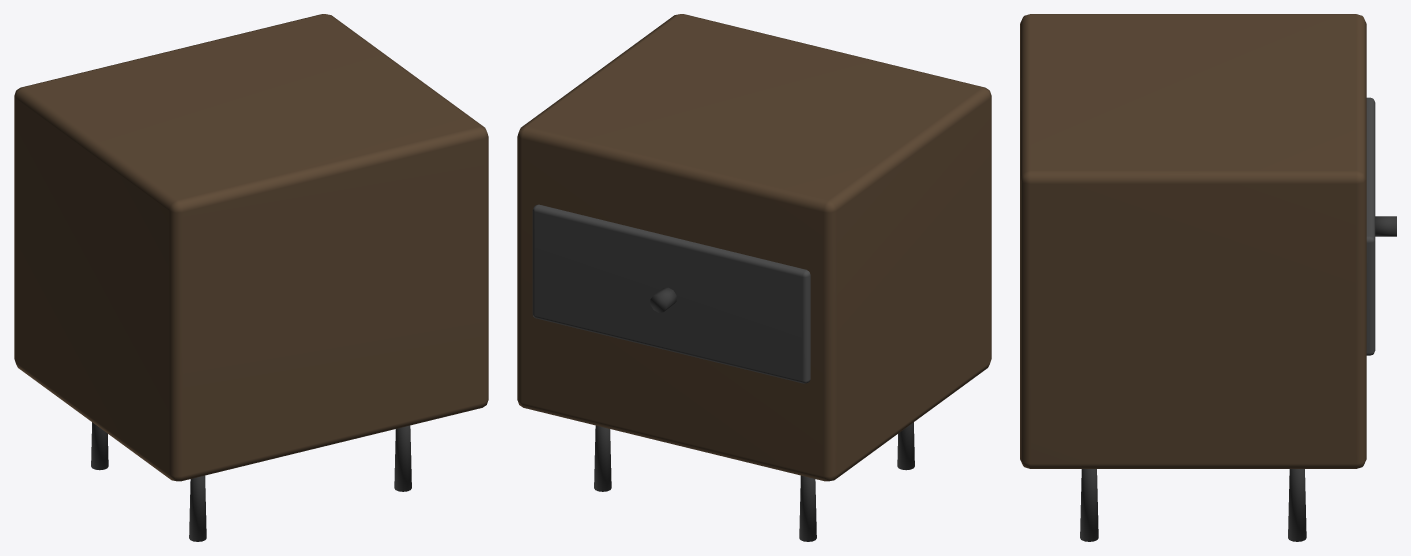
File: nightstand.glb
The picture shows the model from 3 angles, left to right: view 1: azimuth 30°, elevation 25°; view 2: azimuth 150°, elevation 25°; view 3: azimuth 270°, elevation 25°; orthographic projection. The views are drawn at different scales.
Parts seen in each view (by area): view 1: body; view 2: body; view 3: body.
Boxes of the visible parts, x1=… form: body: x1=14, y1=14, x2=488, y2=541; body: x1=517, y1=14, x2=991, y2=541; body: x1=1020, y1=14, x2=1396, y2=541.
Size of the model in its own units: 0.45 by 0.5 by 0.435.
